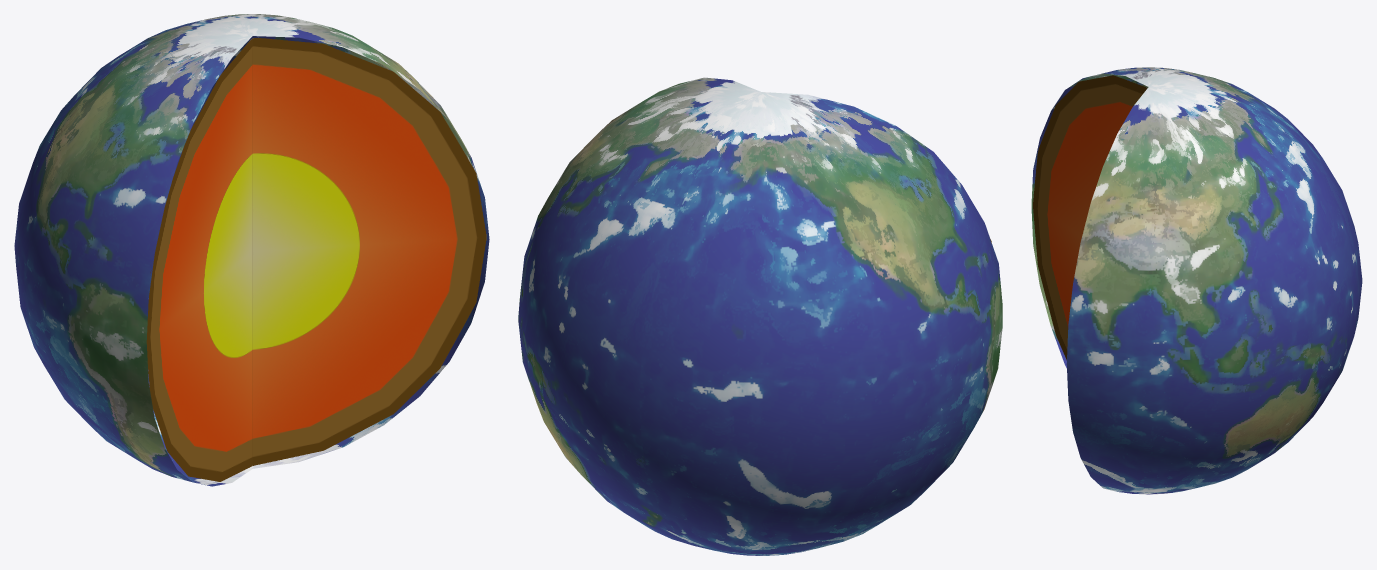
The model's file is main_menu_globe.fbx.
3 views of the same model, side by side, from view 1: azimuth 30°, elevation 25°; view 2: azimuth 150°, elevation 25°; view 3: azimuth 270°, elevation 25° (orthographic). The views are drawn at different scales.
Visible parts, largest first — view 1: core_2, globe, core_1; view 2: globe; view 3: globe, core_1.
Boxes of the visible parts, x1=… form: core_2: x1=252, y1=37, x2=486, y2=465; globe: x1=14, y1=14, x2=489, y2=486; core_1: x1=146, y1=38, x2=252, y2=481; globe: x1=518, y1=77, x2=1002, y2=555; globe: x1=1031, y1=67, x2=1362, y2=494; core_1: x1=1032, y1=75, x2=1147, y2=360.
Bounding box in the file's own units: 40.39 × 40.39 × 31.26.
